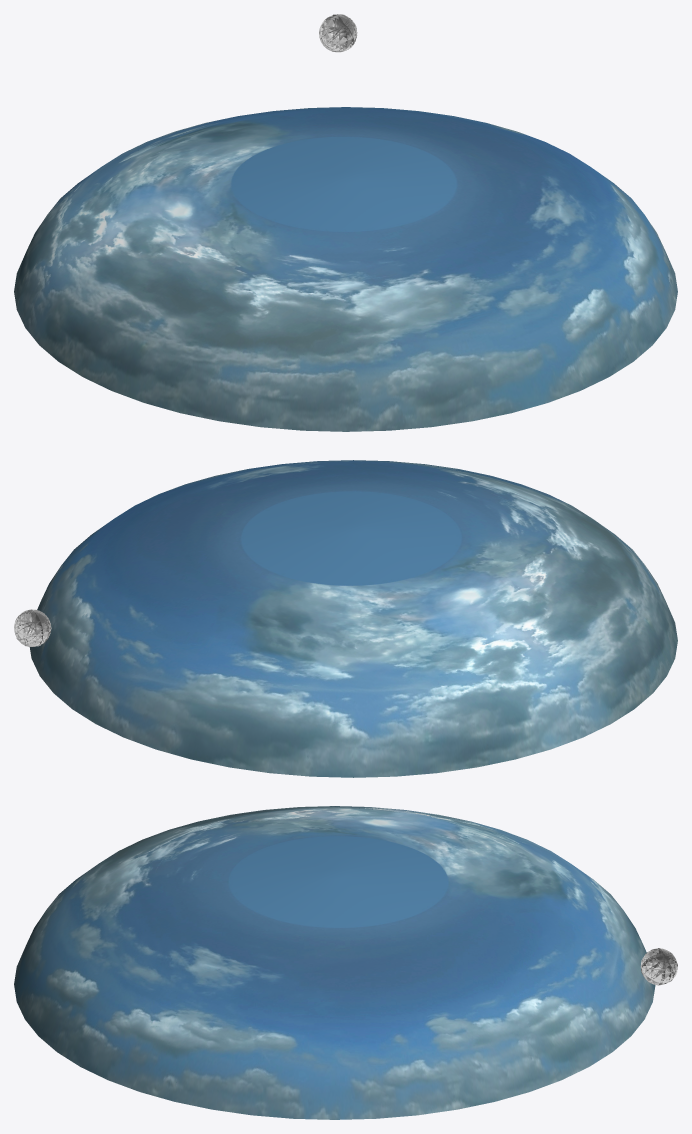
The model's file is skydome.dae.
3 renders of one model, top to bottom at view 1: azimuth 30°, elevation 25°; view 2: azimuth 150°, elevation 25°; view 3: azimuth 270°, elevation 25°, orthographic. The views are drawn at different scales.
Parts seen in each view (by area): view 1: Skydome_Morning_001; view 2: Skydome_Morning_001; view 3: Skydome_Morning_001.
Boxes of the visible parts, x1,y1,x2,y2 form: Skydome_Morning_001: [14, 107, 677, 431]; Skydome_Morning_001: [29, 460, 677, 777]; Skydome_Morning_001: [14, 806, 655, 1119].
Size of the model in its own units: 1751 by 1812 by 332.
2 materials, 2 textured.
